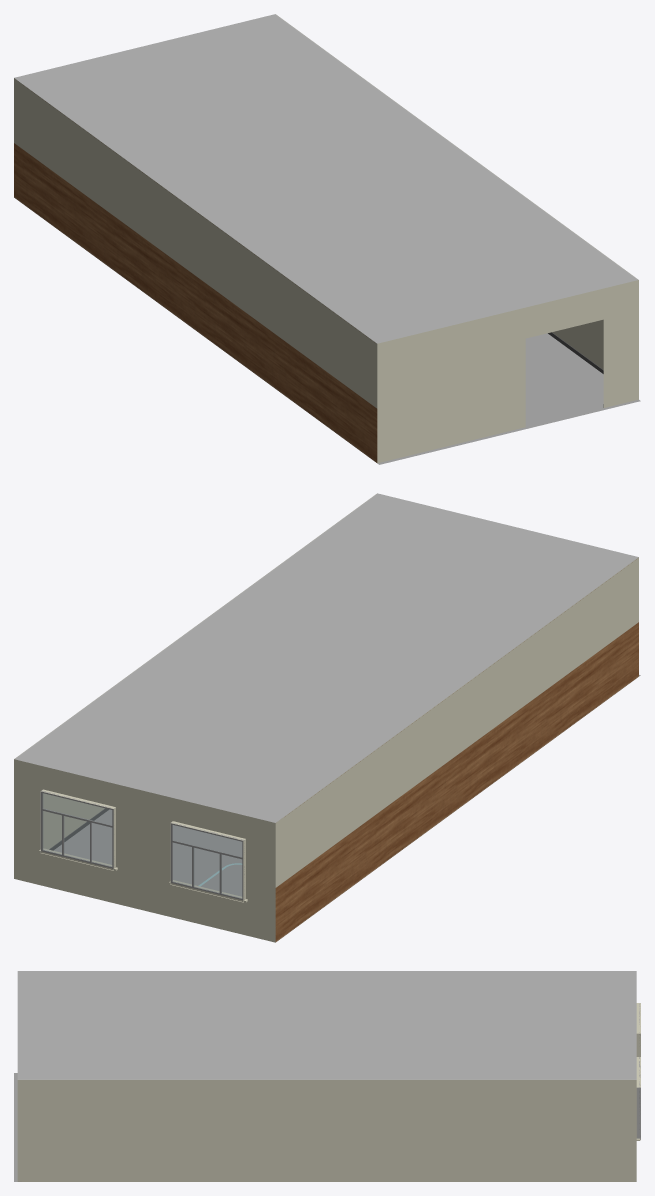
The model's file is Shell.fbx.
3 renders of one model, top to bottom at view 1: azimuth 30°, elevation 25°; view 2: azimuth 150°, elevation 25°; view 3: azimuth 270°, elevation 25°, orthographic. The views are drawn at different scales.
Parts seen in each view (by area): view 1: Wall1, Floor1; view 2: Wall1, Window1, Floor1, WindowFrame; view 3: Wall1, Floor1.
Part boxes in pixels (bbox=[...]): Wall1: bbox=[14, 14, 638, 463]; Floor1: bbox=[377, 333, 640, 464]; Wall1: bbox=[14, 493, 638, 942]; Window1: bbox=[43, 793, 241, 898]; Floor1: bbox=[54, 675, 640, 896]; WindowFrame: bbox=[41, 790, 244, 900]; Wall1: bbox=[17, 971, 640, 1181]; Floor1: bbox=[14, 1073, 17, 1181].
Bounding box in the file's own units: 655 × 286 × 1596.
